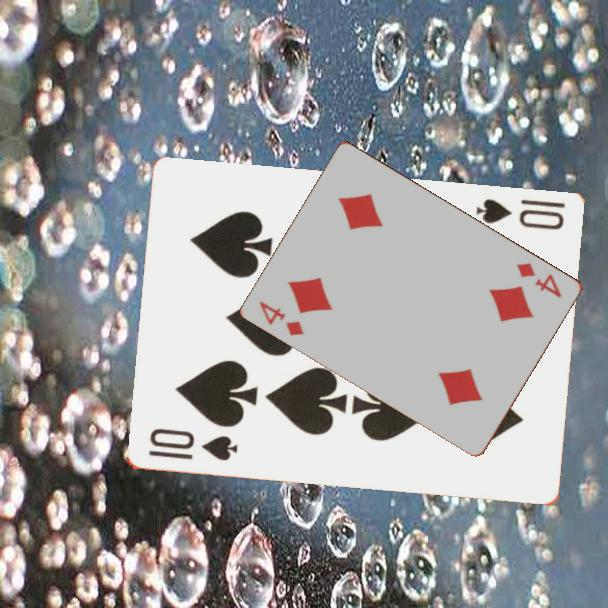d04: (513, 259, 565, 301), (256, 297, 307, 339)
s10: (145, 425, 240, 464), (472, 196, 567, 233)
